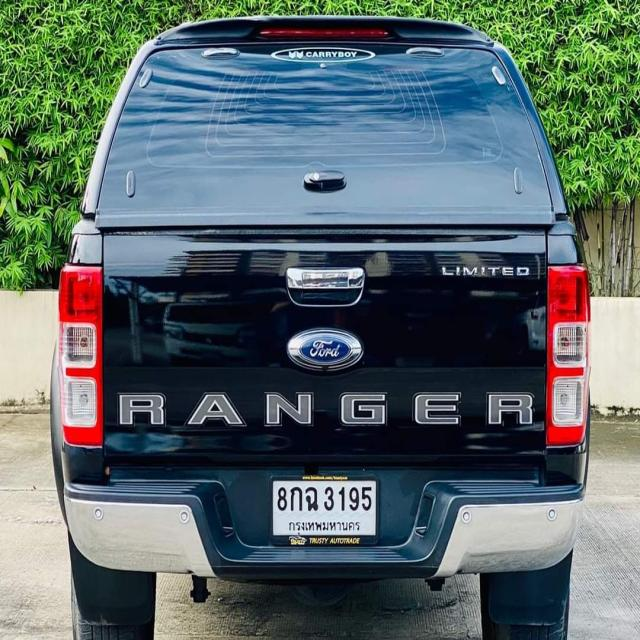license_plate: (268, 471, 381, 549)
